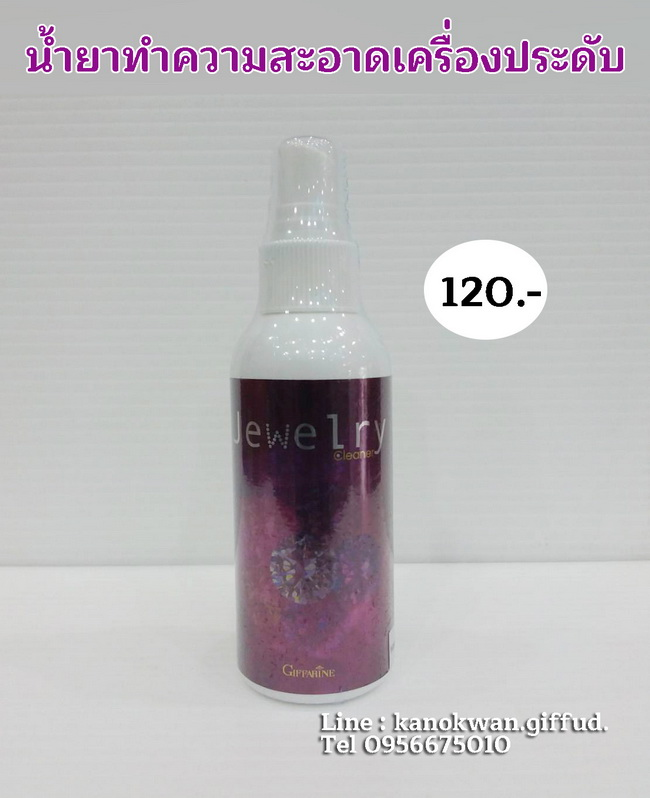Cleaning_solution: (221, 129, 401, 710)
